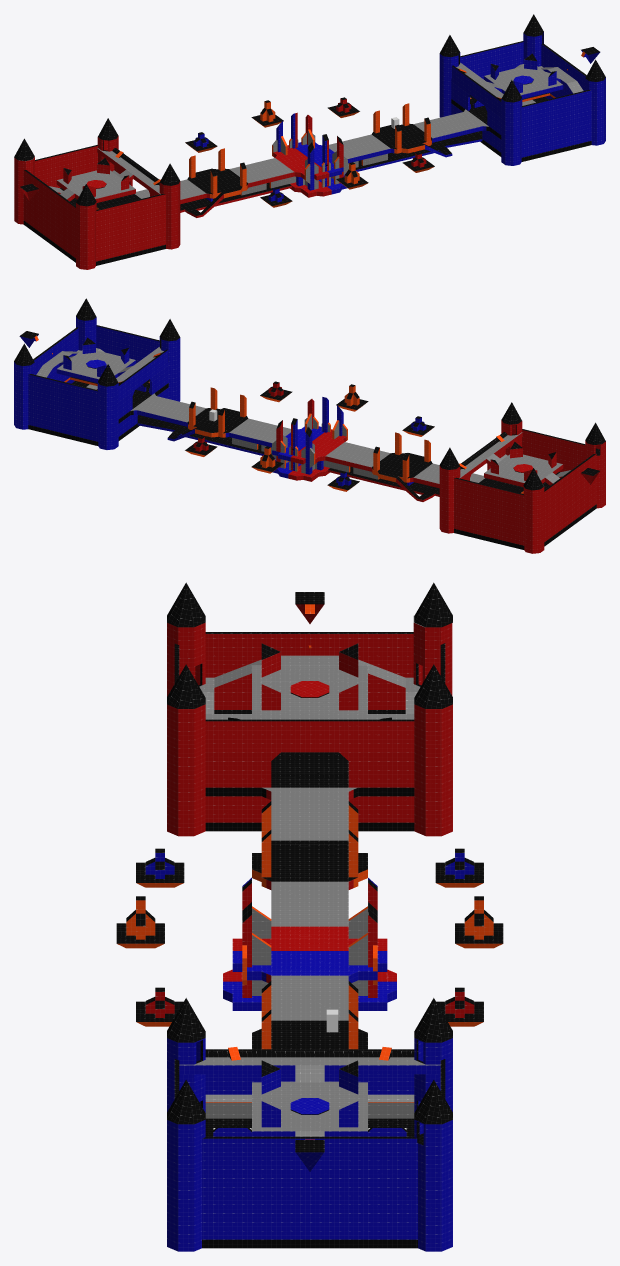
Rendered from castle_snipers.glb.
3 views of the same model, one above another, from view 1: azimuth 30°, elevation 25°; view 2: azimuth 150°, elevation 25°; view 3: azimuth 270°, elevation 25° (orthographic). The views are drawn at different scales.
Visible parts, largest first — view 1: Object_11, Object_8, Object_7, Object_9, Object_10; view 2: Object_11, Object_8, Object_7, Object_9, Object_10; view 3: Object_8, Object_11, Object_7, Object_9, Object_10.
Boxes of the visible parts, bbox=[...] form: Object_11: bbox=[14, 98, 426, 269]; Object_8: bbox=[193, 32, 605, 202]; Object_7: bbox=[14, 14, 605, 265]; Object_9: bbox=[49, 62, 583, 199]; Object_10: bbox=[34, 51, 585, 209]; Object_11: bbox=[193, 382, 605, 553]; Object_8: bbox=[14, 316, 426, 486]; Object_7: bbox=[14, 298, 605, 549]; Object_9: bbox=[36, 347, 570, 483]; Object_10: bbox=[34, 335, 523, 493]; Object_8: bbox=[145, 853, 474, 1251]; Object_11: bbox=[145, 604, 474, 1017]; Object_7: bbox=[116, 582, 503, 1248]; Object_9: bbox=[179, 655, 440, 1136]; Object_10: bbox=[117, 604, 502, 1139].
Size of the model in its own units: 342 by 46.75 by 100.
19 materials, 5 textured.
